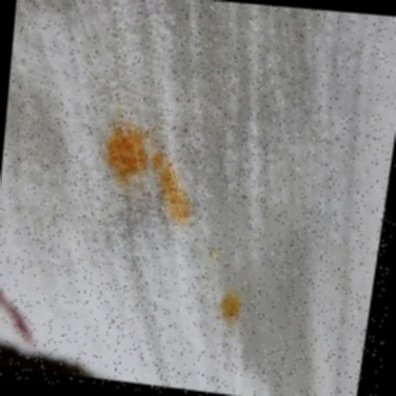kimchi: (93, 122, 154, 187), (147, 153, 199, 226), (209, 288, 245, 331), (204, 245, 222, 263)
